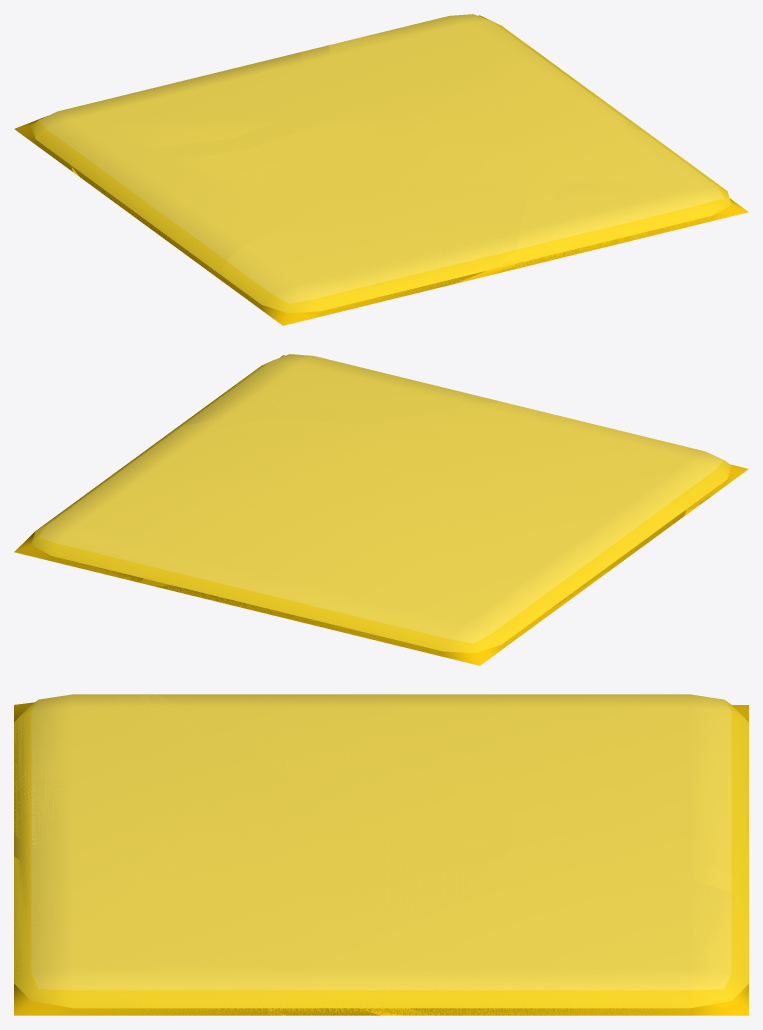
Rendered from Floor.fbx.
3 renders of one model, top to bottom at view 1: azimuth 30°, elevation 25°; view 2: azimuth 150°, elevation 25°; view 3: azimuth 270°, elevation 25°, orthographic. The views are drawn at different scales.
Visible parts, largest first — view 1: Floor_02, Floor_01, Floor_03, Floor_04; view 2: Floor_02, Floor_01, Floor_03, Floor_04; view 3: Floor_01, Floor_02, Floor_04, Floor_03.
Part boxes in pixels (<box>): Floor_02: <box>14,14,748,325</box>; Floor_01: <box>75,21,721,315</box>; Floor_03: <box>35,16,710,308</box>; Floor_04: <box>35,22,724,308</box>; Floor_02: <box>14,354,748,665</box>; Floor_01: <box>38,356,704,624</box>; Floor_03: <box>51,361,727,656</box>; Floor_04: <box>38,362,726,643</box>; Floor_01: <box>14,707,690,1015</box>; Floor_02: <box>14,694,748,1015</box>; Floor_04: <box>72,694,690,1015</box>; Floor_03: <box>72,694,748,1015</box>.
Bounding box in the file's own units: 100 × 3.33 × 100.
1 material, 1 textured.
